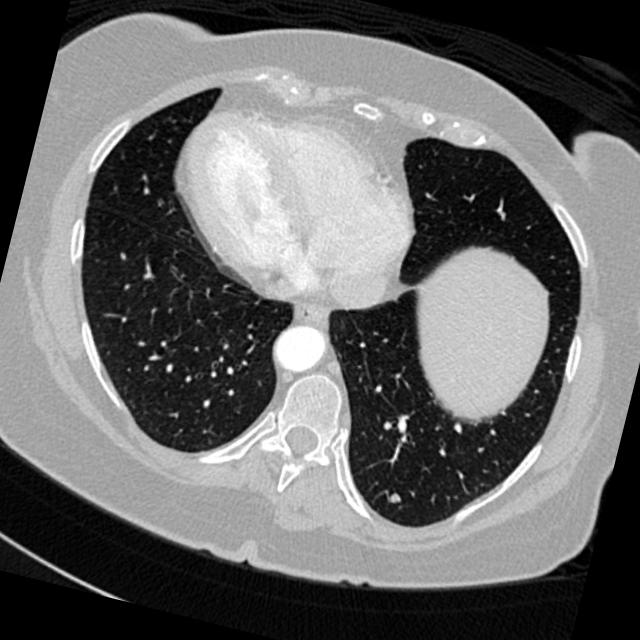nodule: (384, 484, 411, 512)
